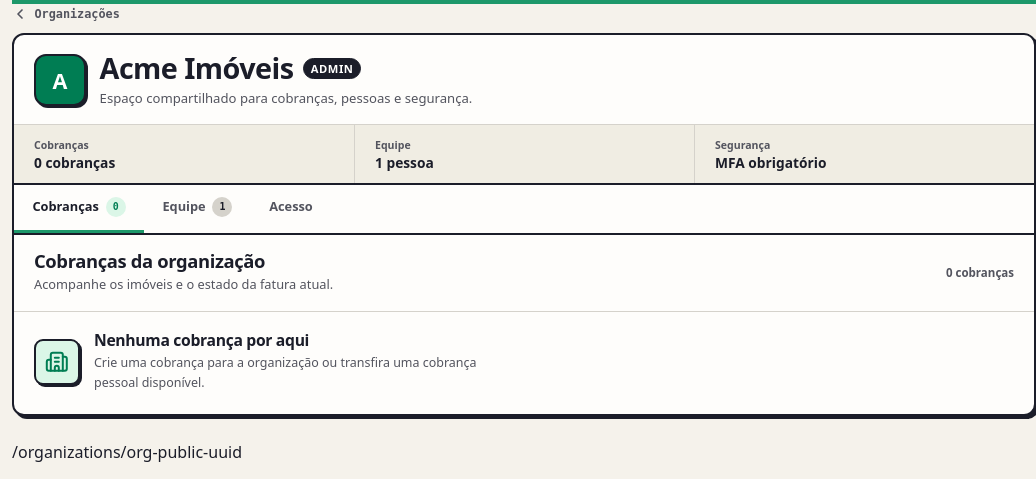
Test: shows a truly empty organization and trusts false capabilities over an admin role
The width and height of the screenshot is (1036, 479).
Expected: the heading "Nenhuma cobrança por aqui" is shown, [94,330,309,352]
Expected: the text "1 pessoa" is shown, [375,153,434,172]
Click the tab "Acesso". click: [291, 209]
box: [251,185,331,233]
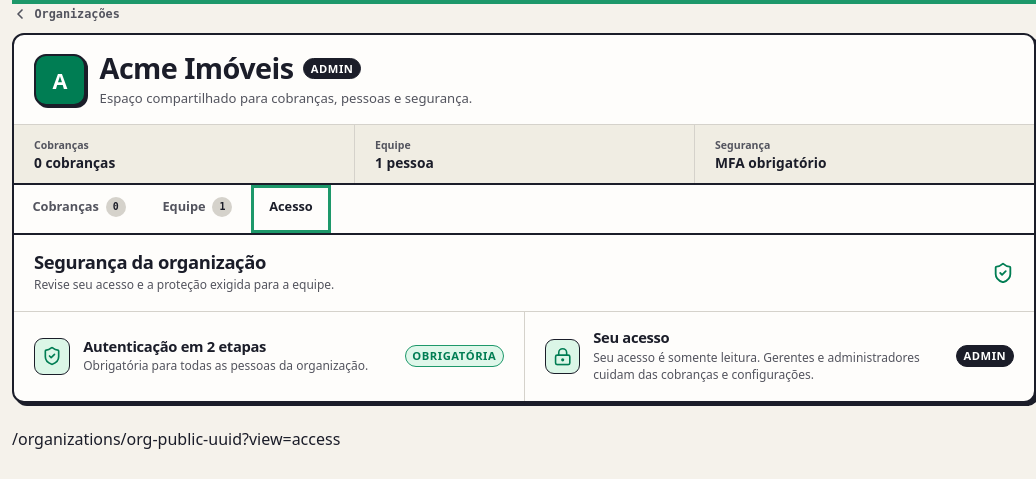
Expected: the heading "Segurança da organização" is shown, [34,249,266,274]
Expected: the text "Seu acesso é somente leitura" is shown, [593,349,920,383]
